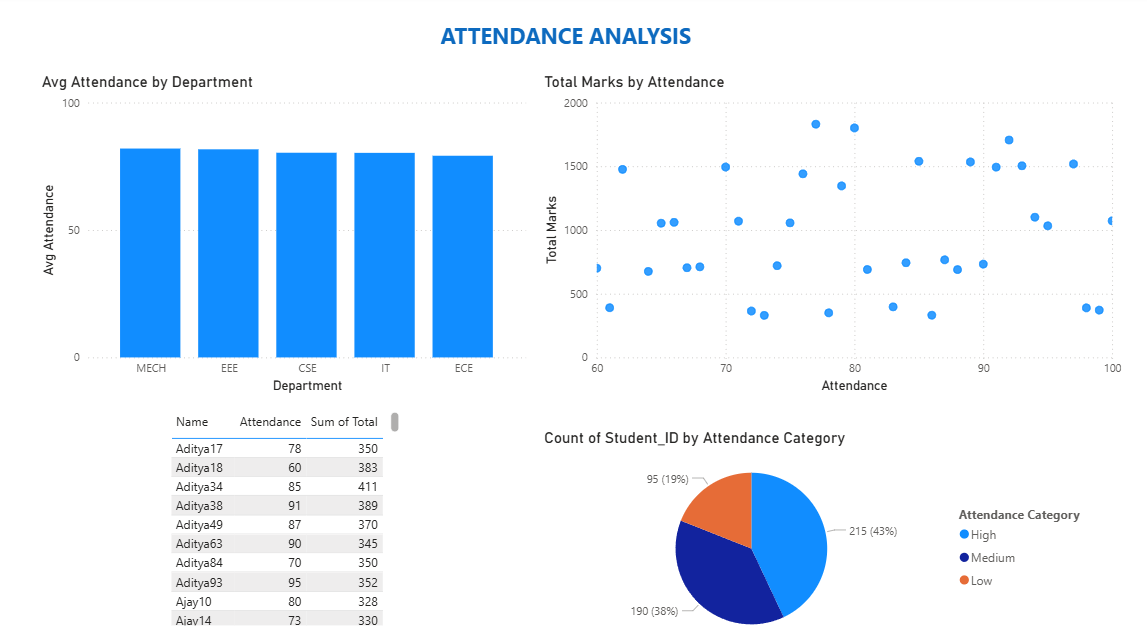

The dashboard page shown, as its layout file describes it:
{"tool":"powerbi","page":{"name":"Page 4","canvas":[1280,720],"ordinal":3},"visuals":[{"type":"textbox","box":[488.5,23.3,303.3,61.7],"z":0},{"type":"clusteredColumnChart","fields":{"Category":["Students.Department"],"Y":["Table.Avg Attendance"]},"box":[50.8,85.1,542,356.8],"z":1000},{"type":"pieChart","fields":{"Category":["Students.Attendance Category"],"Y":["CountNonNull(Marks.Student_ID)"]},"box":[602.4,476.2,612,244.3],"z":2000},{"type":"scatterChart","fields":{"X":["Students.Attendance"],"Y":["Sum(Marks.Total)"]},"box":[602.4,85.1,643.6,356.8],"z":3000},{"type":"tableEx","fields":{"Values":["Students.Name","Students.Attendance","Sum(Marks.Total)"]},"box":[192.1,452.8,260.7,244.3],"z":4000}]}

Visuals, with their boxes in screenshot pixels (x1, y1, x2, y2), scaled from the page's 1280x720 canvas onto the 1147x644 screenshot:
textbox: locate(438, 21, 710, 76)
clusteredColumnChart - Students.Department x Table.Avg Attendance: locate(46, 76, 531, 395)
pieChart - Students.Attendance Category x CountNonNull(Marks.Student_ID): locate(540, 426, 1088, 643)
scatterChart - Students.Attendance x Sum(Marks.Total): locate(540, 76, 1117, 395)
tableEx - Students.Name x Students.Attendance: locate(172, 405, 406, 624)
